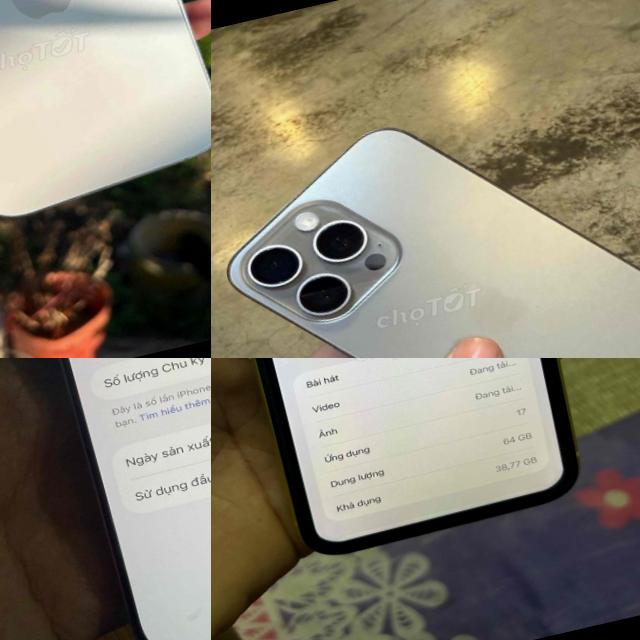gen_11: (211, 358, 604, 577)
gen_14: (0, 0, 211, 244)
gen_15: (211, 49, 640, 358)
gen_16: (62, 358, 211, 640)
